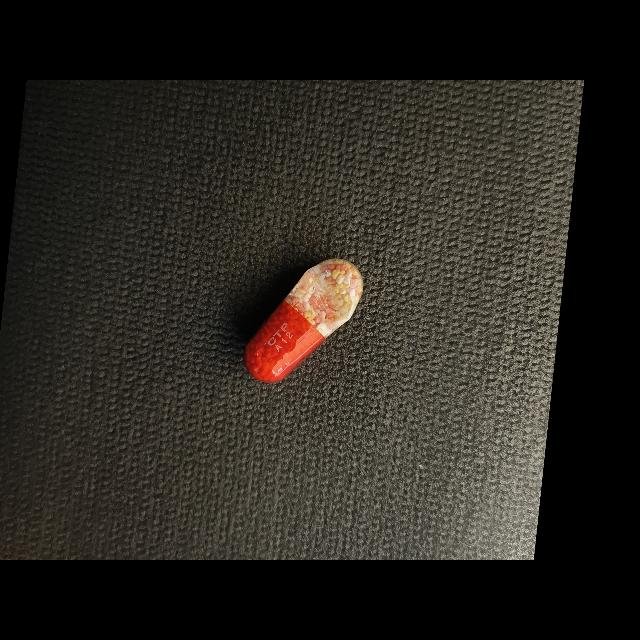Defective Capsule: (245, 258, 363, 383)
